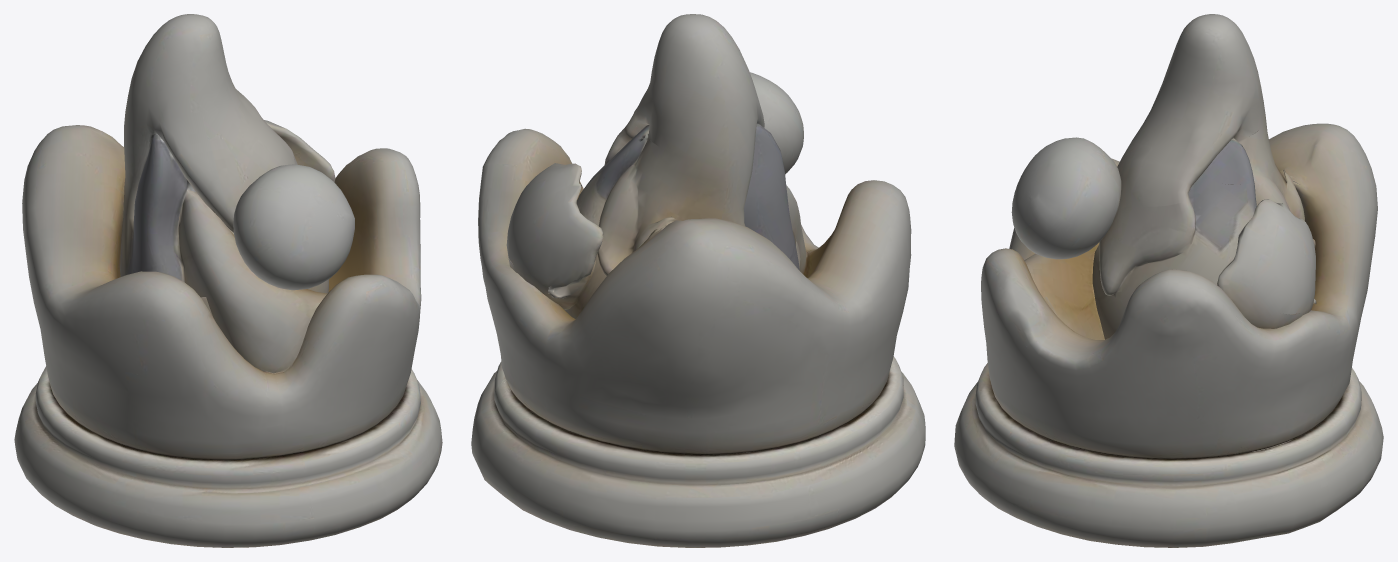
File: acc_hat_candy_scoop_01.glb
3 renders of one model, left to right at view 1: azimuth 30°, elevation 25°; view 2: azimuth 150°, elevation 25°; view 3: azimuth 270°, elevation 25°, orthographic. The views are drawn at different scales.
Visible parts, largest first — view 1: acc_hat_candy_scoop_01; view 2: acc_hat_candy_scoop_01; view 3: acc_hat_candy_scoop_01.
Boxes of the visible parts, x1,y1,x2,y2 form: acc_hat_candy_scoop_01: (14,14,442,547); acc_hat_candy_scoop_01: (471,14,925,547); acc_hat_candy_scoop_01: (954,14,1383,547).
Bounding box in the file's own units: 0.284 × 0.32 × 0.2837.
Materials: 1 (1 with a texture image).
